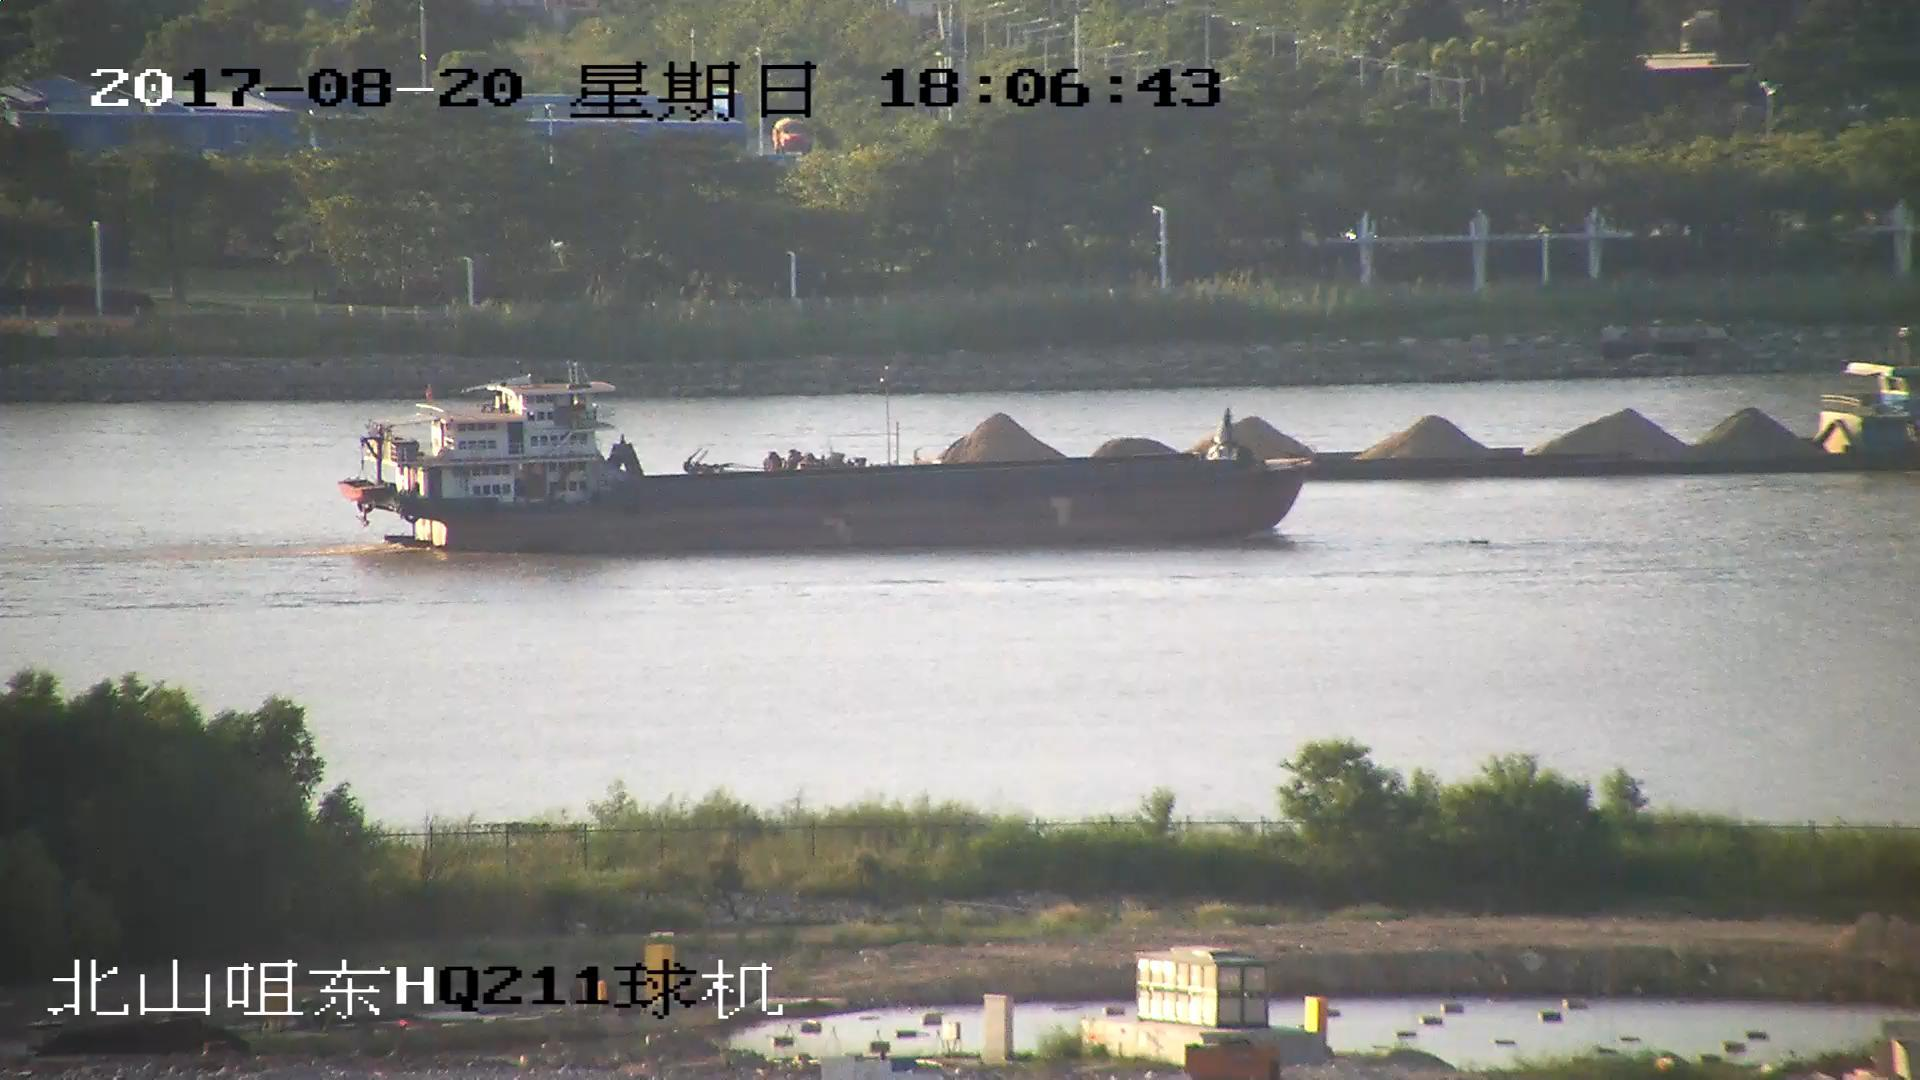Ship: (336, 381, 1317, 560), (669, 367, 1920, 480)
